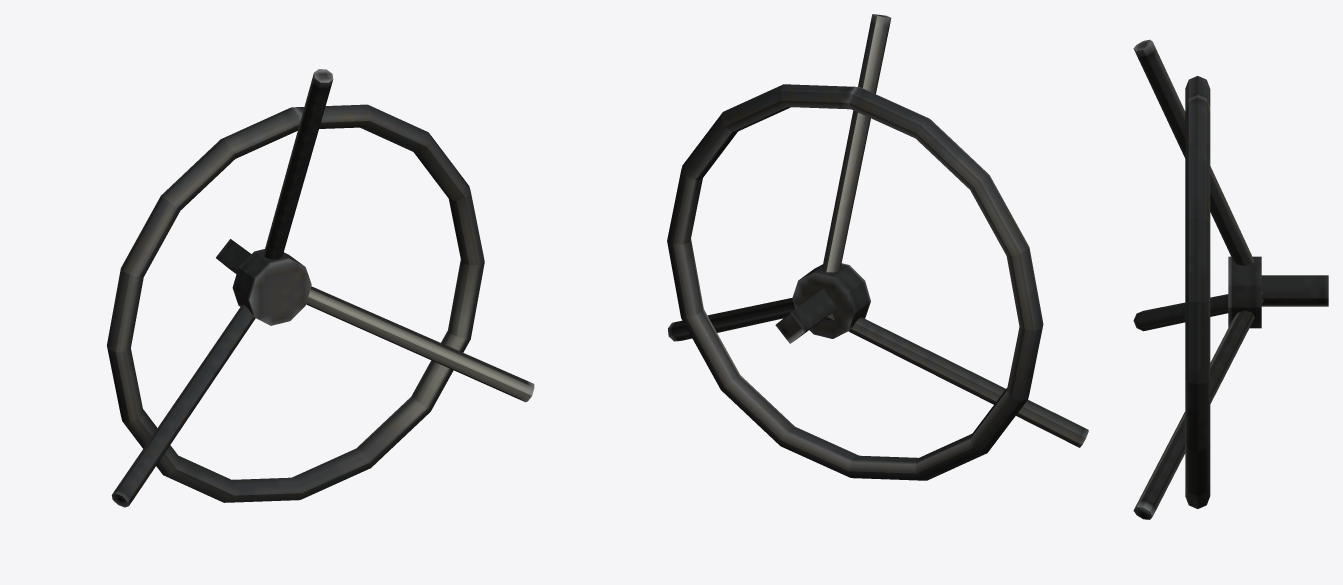
Rendered from 进口电动球阀.obj.
The picture shows the model from 3 angles, left to right: view 1: azimuth 30°, elevation 25°; view 2: azimuth 150°, elevation 25°; view 3: azimuth 270°, elevation 25°; orthographic projection.
Visible parts, largest first — view 1: default; view 2: default; view 3: default.
Part boxes in pixels (box(x1,y1,x2,y2)): default: box(107, 69, 534, 507); default: box(667, 14, 1088, 480); default: box(1133, 39, 1328, 519).
Bounding box in the file's own units: 3.53 × 3.53 × 1.12.
